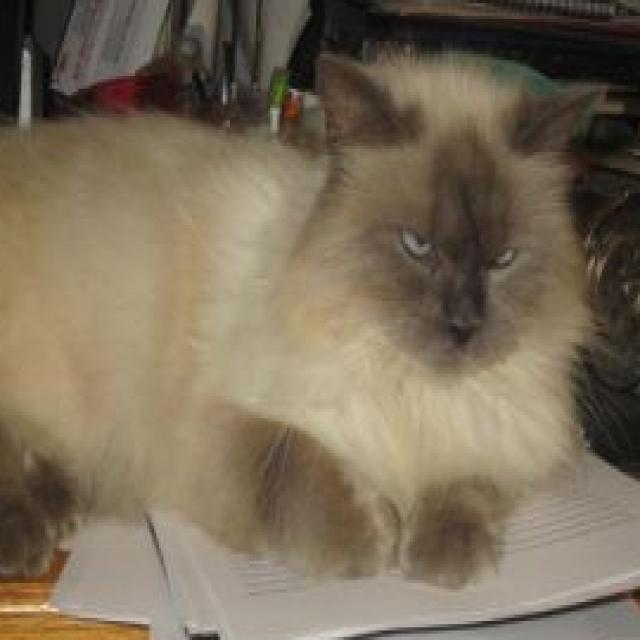Ragdoll: (0, 48, 609, 596)
